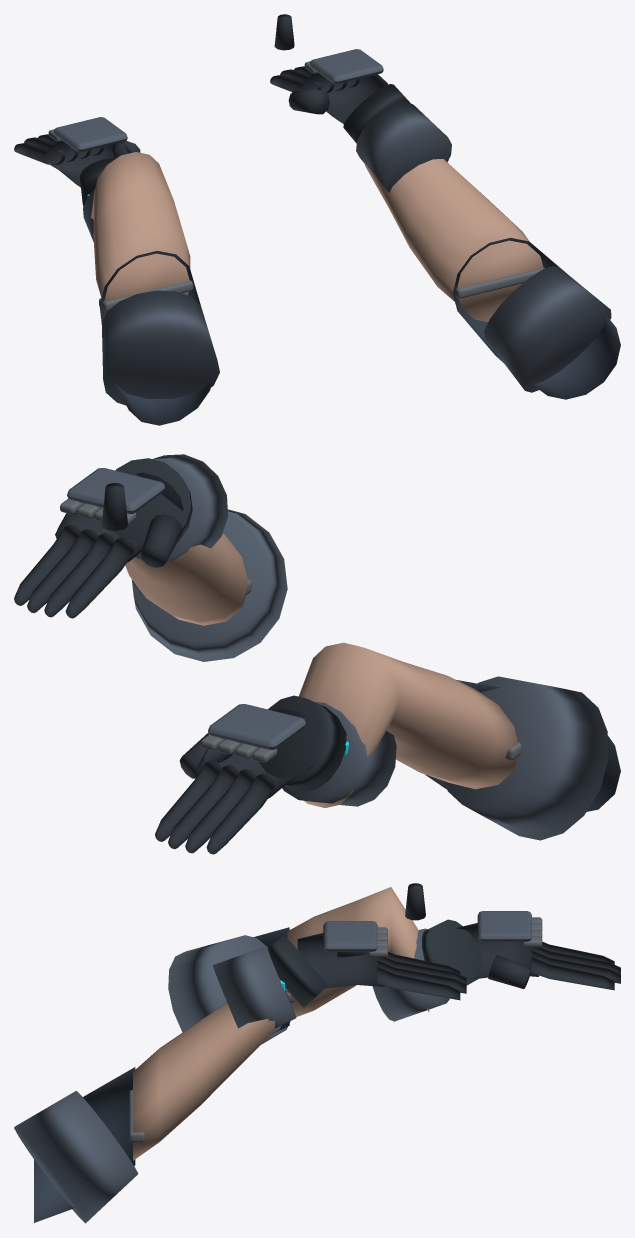
Rendered from tactical_arms_knife.glb.
3 views of the same model, one above another, from view 1: azimuth 30°, elevation 25°; view 2: azimuth 150°, elevation 25°; view 3: azimuth 270°, elevation 25° (orthographic). The views are drawn at different scales.
Visible parts, largest first — view 1: Exposed anatomical forearm, Exposed anatomical forearm.001, Elbow fabric reinforcement.001, Elbow fabric reinforcement, Raised armor cuff, Upper sleeve, Upper sleeve.001, Contoured glove and palm, Back-of-hand armor.001, Back-of-hand armor, Contoured glove and palm.001, Wrist gasket (+4 smaller); view 2: Exposed anatomical forearm.001, Elbow fabric reinforcement.001, Elbow fabric reinforcement, Exposed anatomical forearm, Wrist gasket.001, Raised armor cuff.001, Raised armor cuff, Back-of-hand armor.001, Wrist gasket, Back-of-hand armor, Curved finger 1, Curved finger 1.001 (+12 smaller); view 3: Exposed anatomical forearm, Elbow fabric reinforcement, Elbow fabric reinforcement.001, Raised armor cuff, Exposed anatomical forearm.001, Upper sleeve, Contoured glove and palm, Wrist gasket.001, Wrist gasket, Raised armor cuff.001, Back-of-hand armor.001, Back-of-hand armor (+9 smaller).
Boxes of the visible parts, bbox=[...] form: Exposed anatomical forearm: bbox=[364, 159, 543, 321]; Exposed anatomical forearm.001: bbox=[91, 152, 190, 313]; Elbow fabric reinforcement.001: bbox=[102, 290, 219, 405]; Elbow fabric reinforcement: bbox=[484, 265, 611, 392]; Raised armor cuff: bbox=[356, 101, 451, 192]; Upper sleeve: bbox=[452, 238, 620, 399]; Upper sleeve.001: bbox=[99, 250, 212, 425]; Contoured glove and palm: bbox=[301, 73, 388, 123]; Back-of-hand armor.001: bbox=[54, 117, 127, 151]; Back-of-hand armor: bbox=[310, 49, 383, 83]; Contoured glove and palm.001: bbox=[45, 141, 132, 187]; Wrist gasket: bbox=[343, 84, 410, 143]; Exposed anatomical forearm.001: bbox=[298, 642, 518, 807]; Elbow fabric reinforcement.001: bbox=[444, 676, 608, 840]; Elbow fabric reinforcement: bbox=[131, 509, 287, 661]; Exposed anatomical forearm: bbox=[125, 533, 248, 625]; Wrist gasket.001: bbox=[259, 695, 346, 792]; Raised armor cuff.001: bbox=[282, 702, 396, 806]; Raised armor cuff: bbox=[135, 454, 227, 560]; Back-of-hand armor.001: bbox=[208, 704, 305, 749]; Wrist gasket: bbox=[112, 458, 192, 542]; Back-of-hand armor: bbox=[67, 468, 164, 513]; Curved finger 1: bbox=[65, 537, 134, 618]; Curved finger 1.001: bbox=[206, 773, 275, 854]; Exposed anatomical forearm: bbox=[133, 1002, 274, 1160]; Elbow fabric reinforcement: bbox=[14, 1091, 138, 1223]; Elbow fabric reinforcement.001: bbox=[168, 935, 290, 1044]; Raised armor cuff: bbox=[212, 946, 296, 1028]; Exposed anatomical forearm.001: bbox=[287, 887, 429, 1016]; Upper sleeve: bbox=[34, 1067, 135, 1222]; Contoured glove and palm: bbox=[297, 933, 384, 988]; Wrist gasket.001: bbox=[422, 919, 481, 985]; Wrist gasket: bbox=[267, 935, 327, 1007]; Raised armor cuff.001: bbox=[372, 928, 449, 1021]; Back-of-hand armor.001: bbox=[477, 911, 531, 941]; Back-of-hand armor: bbox=[323, 921, 377, 951].
Size of the model in its own units: 0.625 by 0.3845 by 0.7475.
